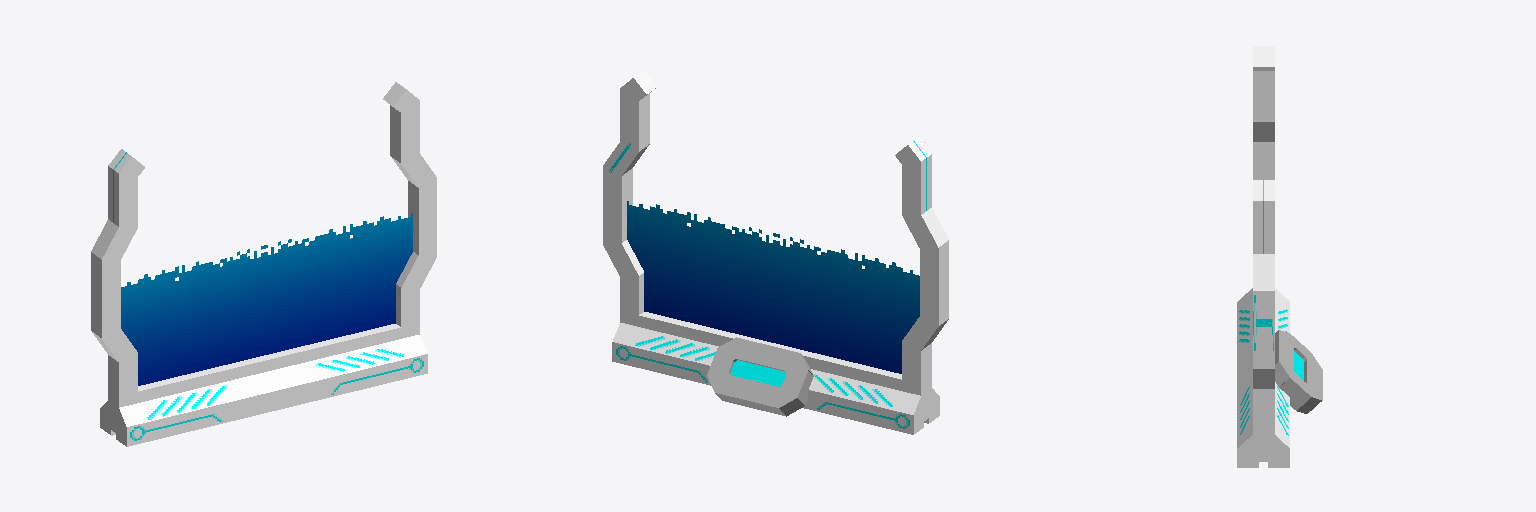
The picture shows the model from 3 angles: view 1: azimuth 30°, elevation 25°; view 2: azimuth 150°, elevation 25°; view 3: azimuth 270°, elevation 25°; orthographic projection.
Visible parts, largest first — view 1: cube, screen; view 2: cube, screen; view 3: cube.
Boxes of the visible parts, <box> form: cube: <box>91,82,436,446</box>; screen: <box>121,213,412,385</box>; cube: <box>603,70,948,434</box>; screen: <box>627,201,919,373</box>; cube: <box>1237,46,1322,467</box>.
Bounding box in the file's own units: 1.11 × 0.9066 × 0.2446.
Materials: 1 (1 with a texture image).